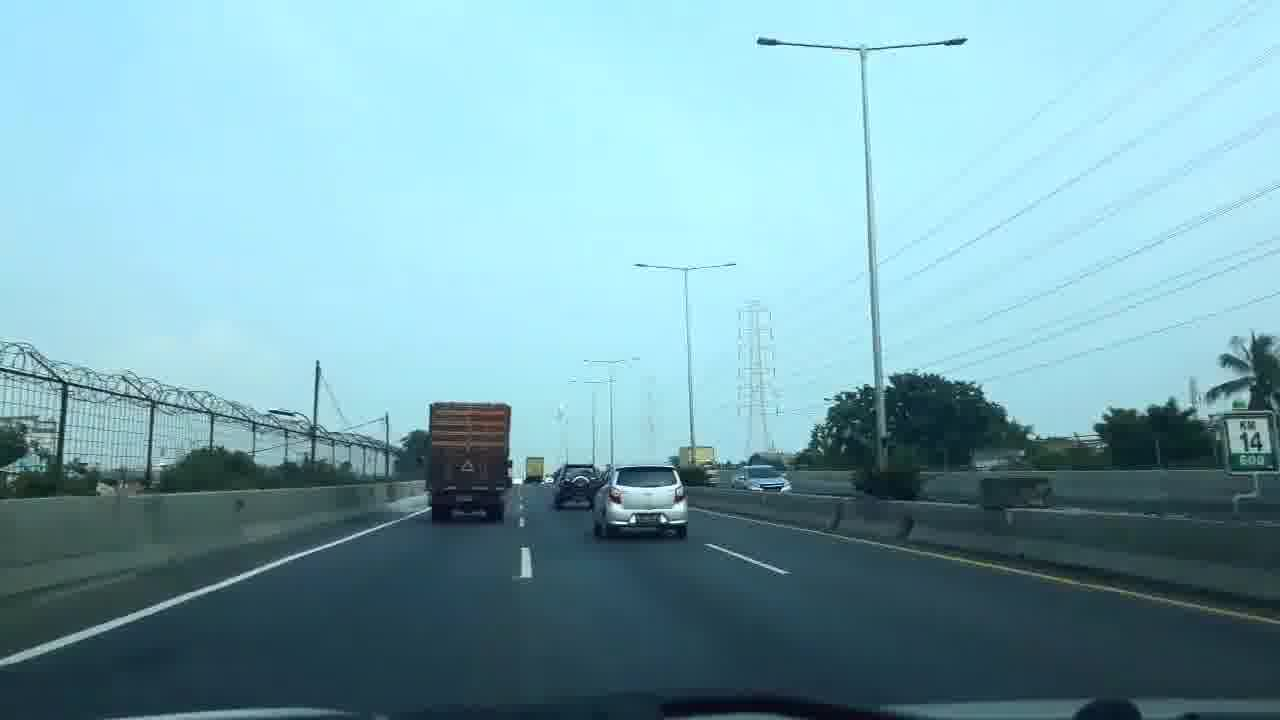plate_positive: (636, 514, 661, 524)
